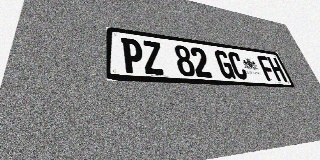2: (189, 46, 212, 78)
8: (173, 44, 196, 77)
C: (227, 51, 249, 80)
F: (256, 55, 278, 81)
G: (213, 50, 236, 79)
H: (266, 57, 288, 82)
P: (121, 37, 145, 74)
Z: (141, 40, 165, 75)
